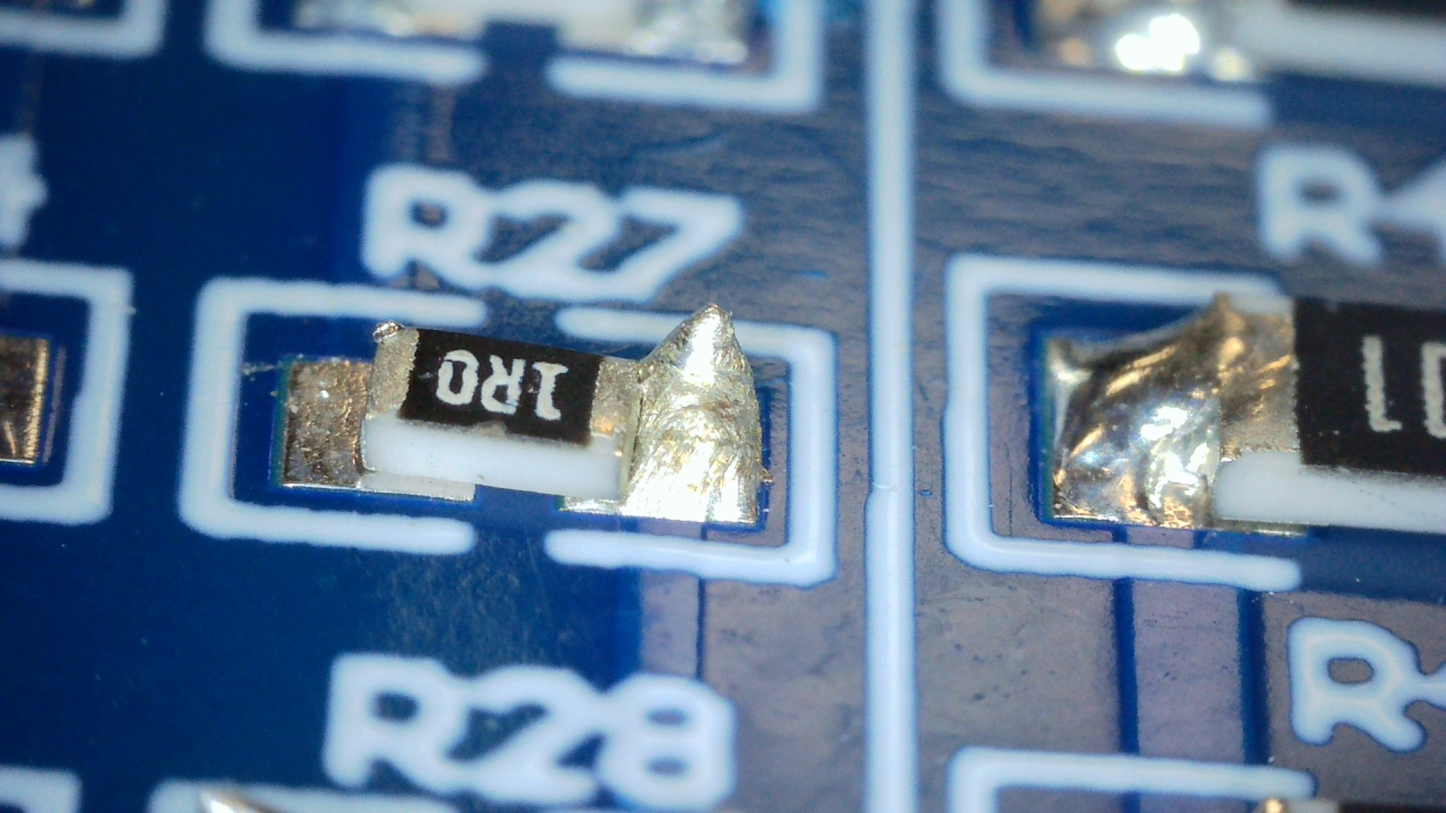NG: (622, 302, 775, 524), (350, 320, 416, 459)
